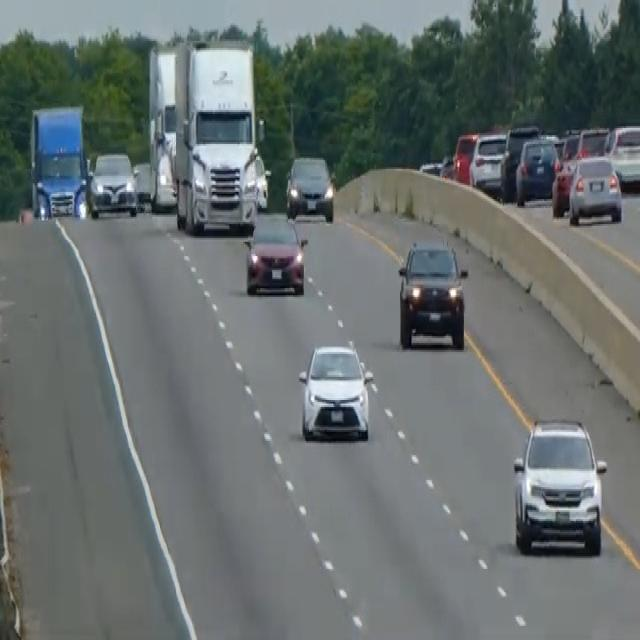car: (297, 340, 373, 442), (242, 211, 309, 297), (567, 153, 622, 226), (86, 149, 138, 219), (284, 153, 334, 222), (514, 135, 559, 205), (500, 123, 539, 197), (468, 130, 507, 192), (605, 123, 639, 190), (452, 130, 477, 183), (575, 125, 609, 158), (252, 149, 270, 210)
jeep: (511, 414, 607, 556), (396, 237, 468, 351)
lorry: (147, 37, 264, 235)
